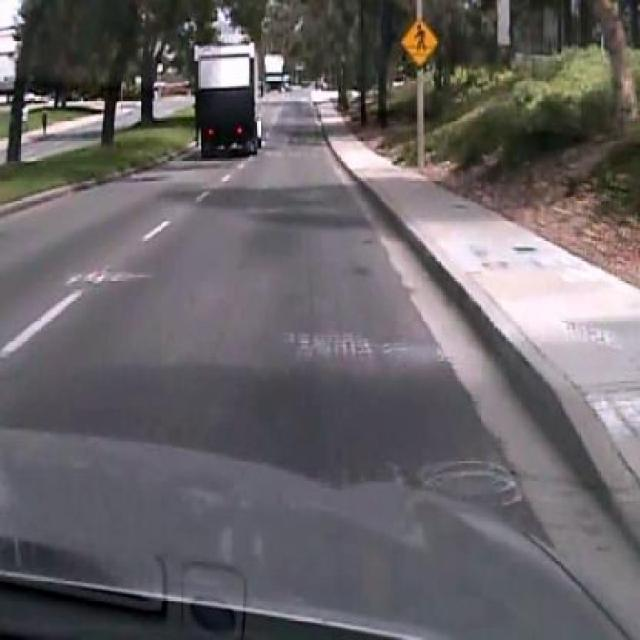pedestrianCrossing: (398, 17, 438, 66)
